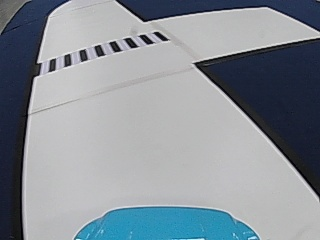CrossWalk: (41, 32, 165, 69)
